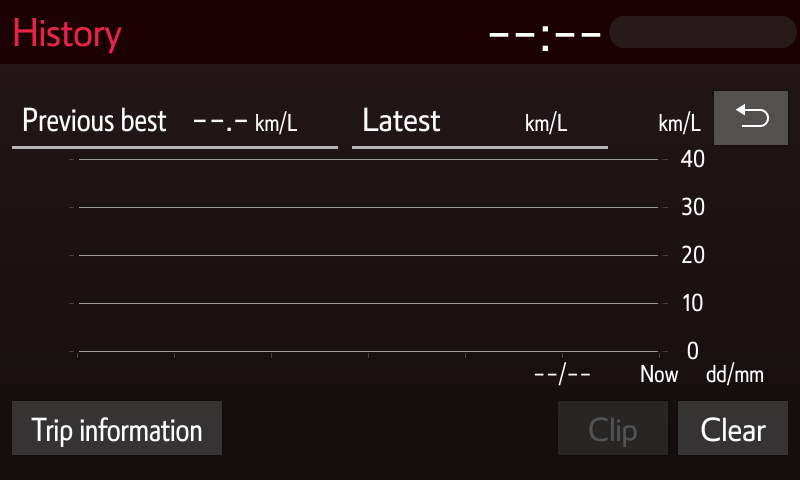touchPart: (11, 395, 233, 459), (678, 395, 792, 462), (711, 85, 791, 153)
untouchPart: (14, 103, 709, 365), (481, 13, 793, 54), (550, 396, 672, 465), (8, 14, 130, 54)
